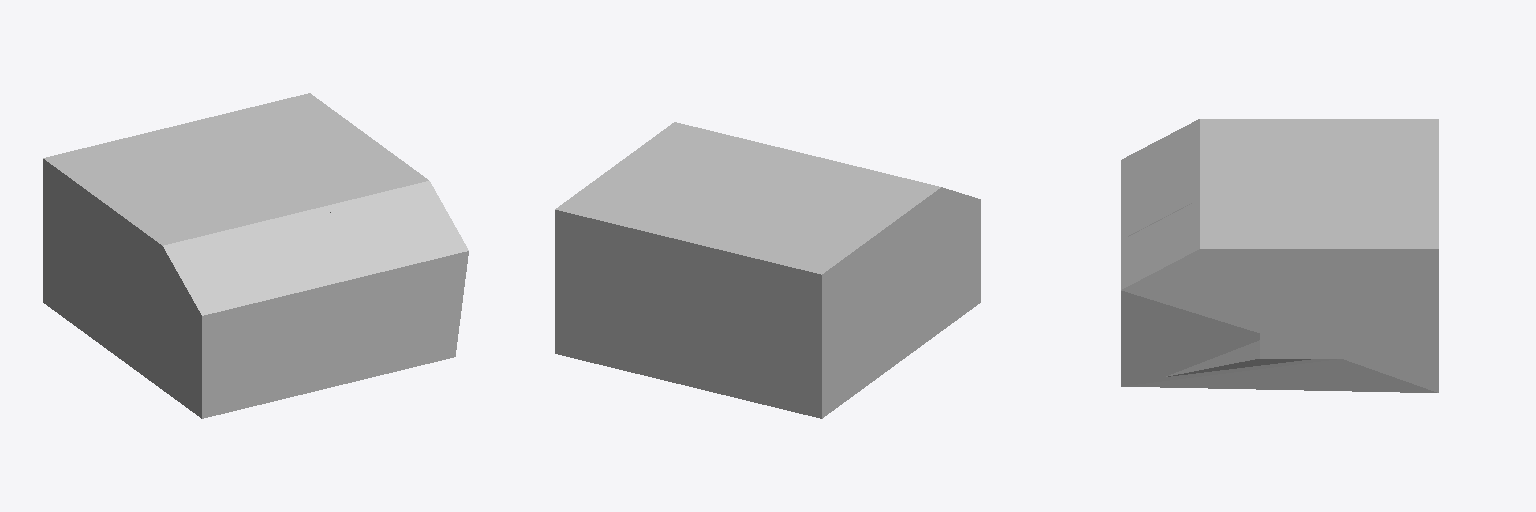
File: room_proxy.obj
3 renders of one model, left to right at view 1: azimuth 30°, elevation 25°; view 2: azimuth 150°, elevation 25°; view 3: azimuth 270°, elevation 25°, orthographic.
Parts seen in each view (by area): view 1: pCube14; view 2: pCube14; view 3: pCube14.
Boxes of the visible parts, x1,y1,x2,y2 form: pCube14: [43, 93, 468, 418]; pCube14: [555, 122, 980, 418]; pCube14: [1121, 119, 1438, 392].
Size of the model in its own units: 164 by 84.59 by 169.